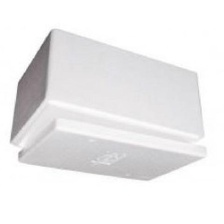foam_box: (3, 23, 212, 188)
